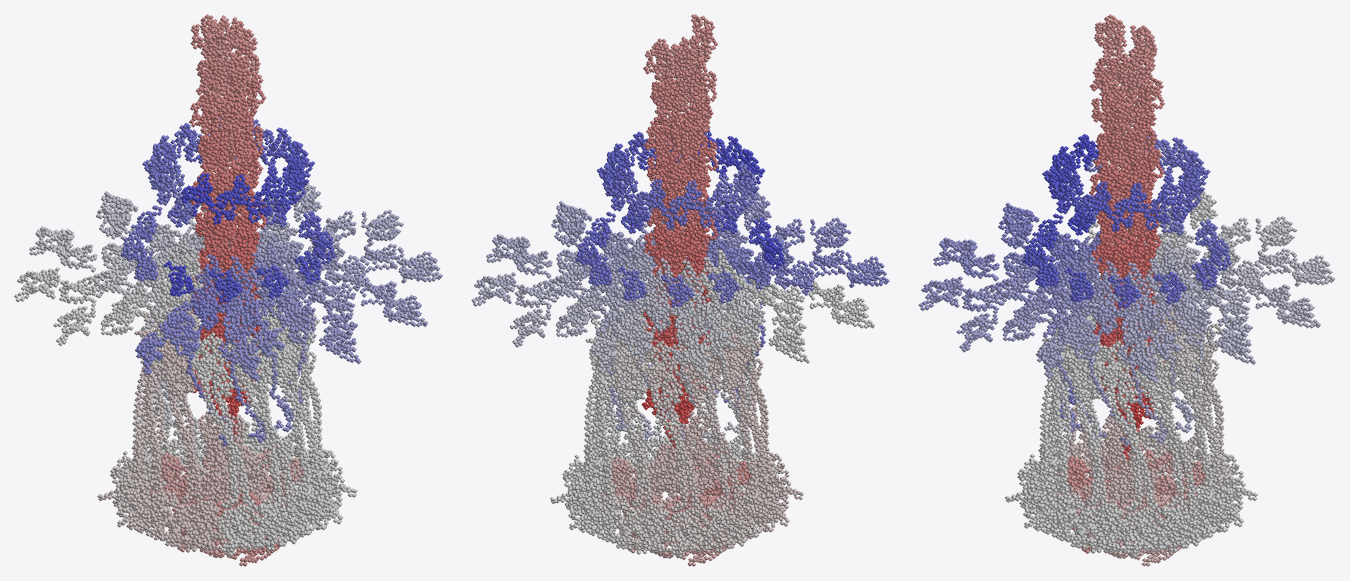
Rendered from pilus.gltf.
3 views of the same model, side by side, from view 1: azimuth 30°, elevation 25°; view 2: azimuth 150°, elevation 25°; view 3: azimuth 270°, elevation 25° (orthographic). The views are drawn at different scales.
Visible parts, largest first — view 1: pilus; view 2: pilus; view 3: pilus.
Part boxes in pixels (box(x1,y1,x2,y2)): pilus: box(14, 14, 442, 566); pilus: box(471, 14, 889, 566); pilus: box(918, 14, 1334, 566).
Size of the model in its own units: 1.59 by 2.22 by 1.59.
